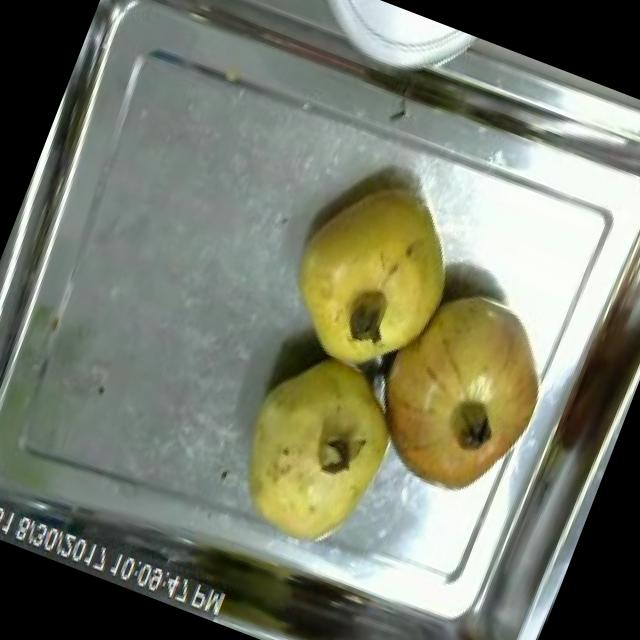fruit: (339, 261, 578, 523), (259, 147, 484, 397), (208, 334, 418, 570)
